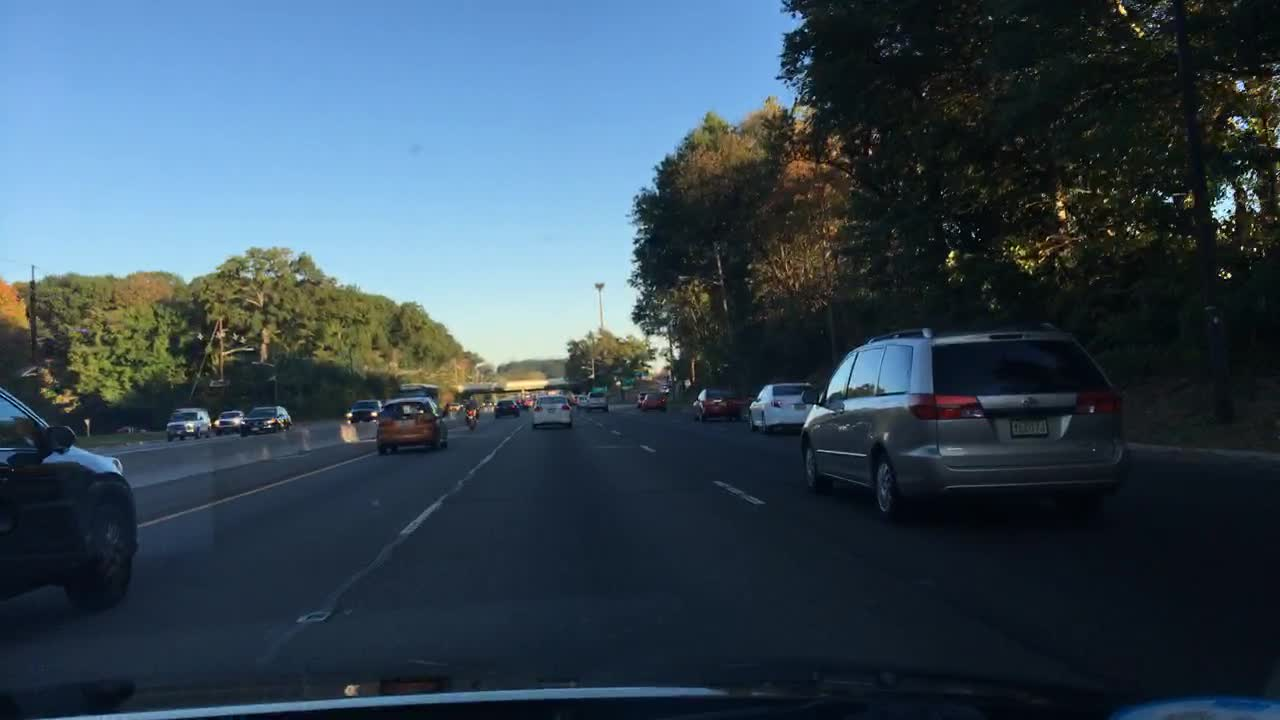car: (799, 322, 1135, 528), (0, 384, 139, 614), (374, 399, 449, 451), (748, 384, 811, 435), (163, 408, 211, 446), (527, 393, 575, 430), (690, 387, 742, 421), (239, 405, 291, 431), (212, 408, 246, 436), (345, 398, 377, 422), (639, 392, 665, 413), (587, 392, 610, 412), (493, 396, 515, 416), (515, 392, 533, 410), (573, 390, 589, 410), (635, 390, 645, 405)
motor: (460, 408, 478, 430)
rider: (463, 393, 475, 415)
traffic sign: (633, 365, 649, 375), (621, 378, 636, 385)
truck: (398, 381, 441, 415)
